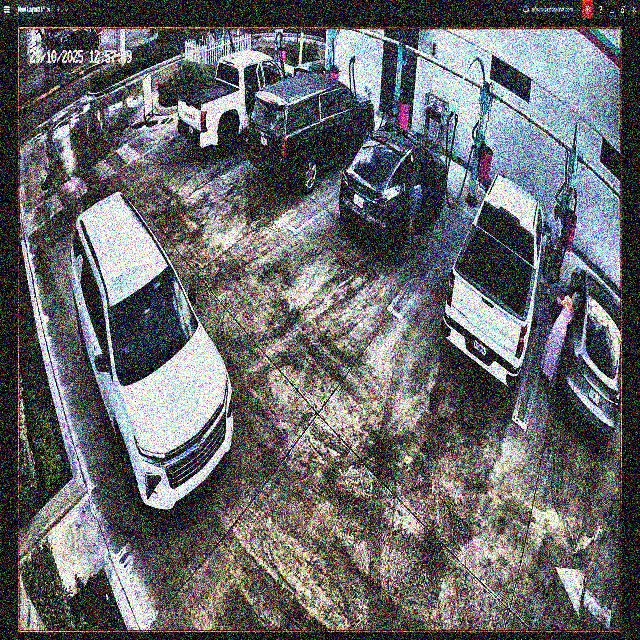Car: (69, 193, 236, 511), (440, 175, 550, 385), (246, 68, 374, 192), (342, 125, 447, 251), (175, 49, 297, 154)
